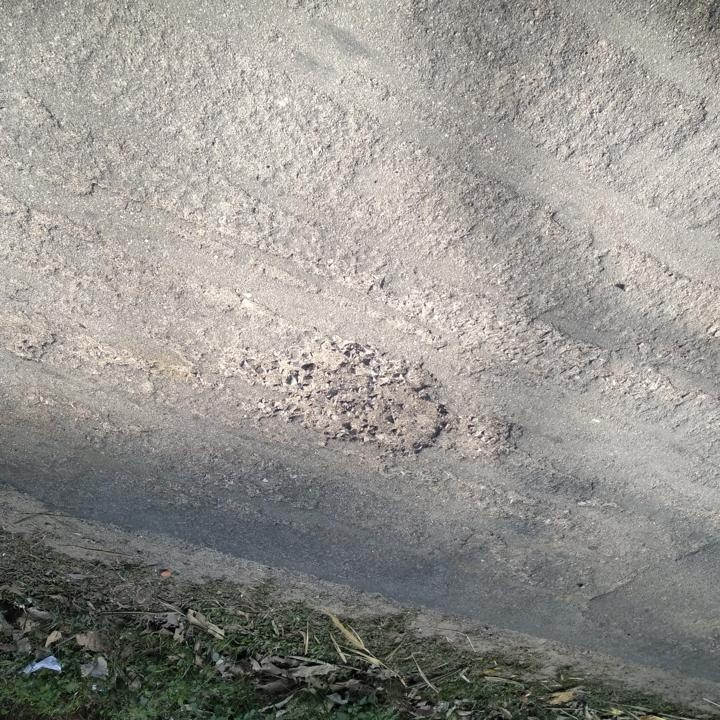pothole: (250, 330, 452, 462)
